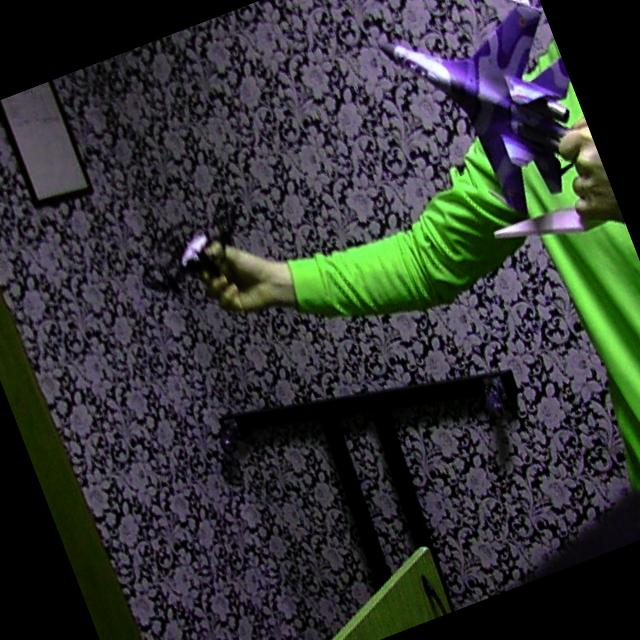drone: (108, 168, 276, 324)
